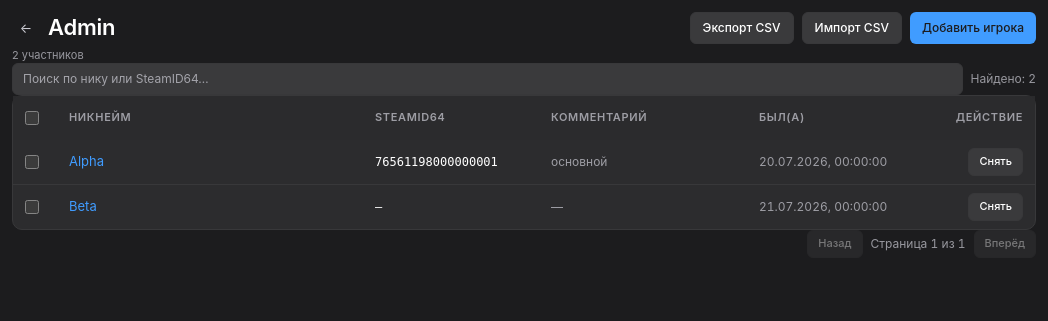
Test: MembersPage — branch coverage › toggles the whole page via the header checkbox and back off
This screenshot has width=1048, height=321.
Check: the link "Alpha" is shown, box [69,153,104,169]
Click the checkbox named "Выбрать всех на странице" next to "Никнейм": (32, 118) [25,111,39,125]
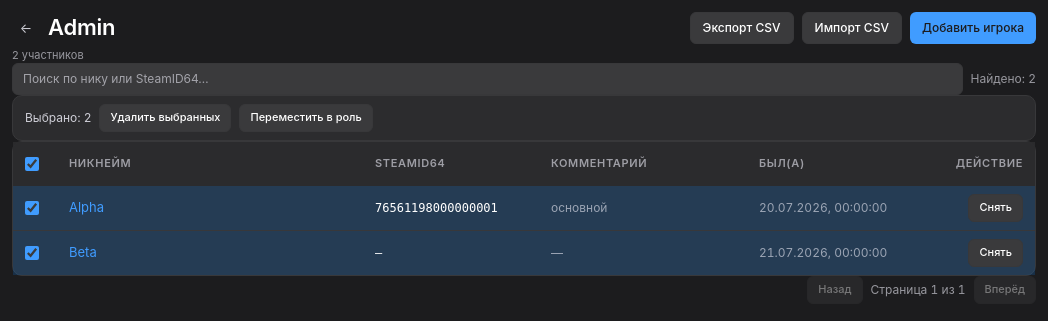
Check: the element with test id "bulk-toolbar" shows "Выбрано: 2", box [12,95,1036,141]
// Clicking again (all already selected) clears the selection.
Click the checkbox named "Выбрать всех на странице" next to "Никнейм": (32, 164) [25,157,39,171]
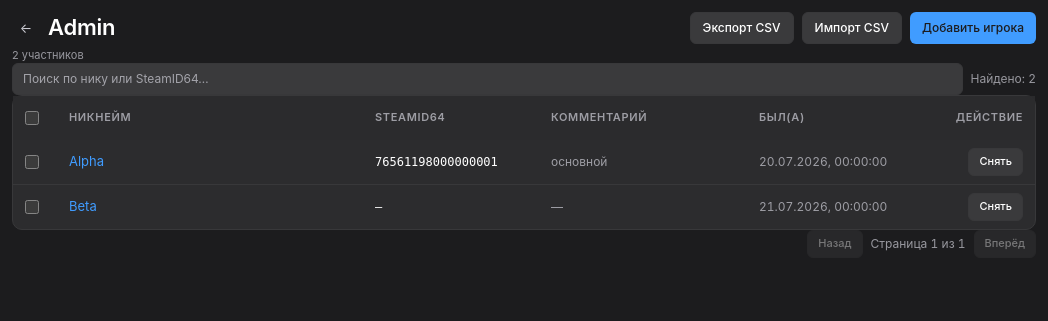
Check: the element with test id "bulk-toolbar" is gone
